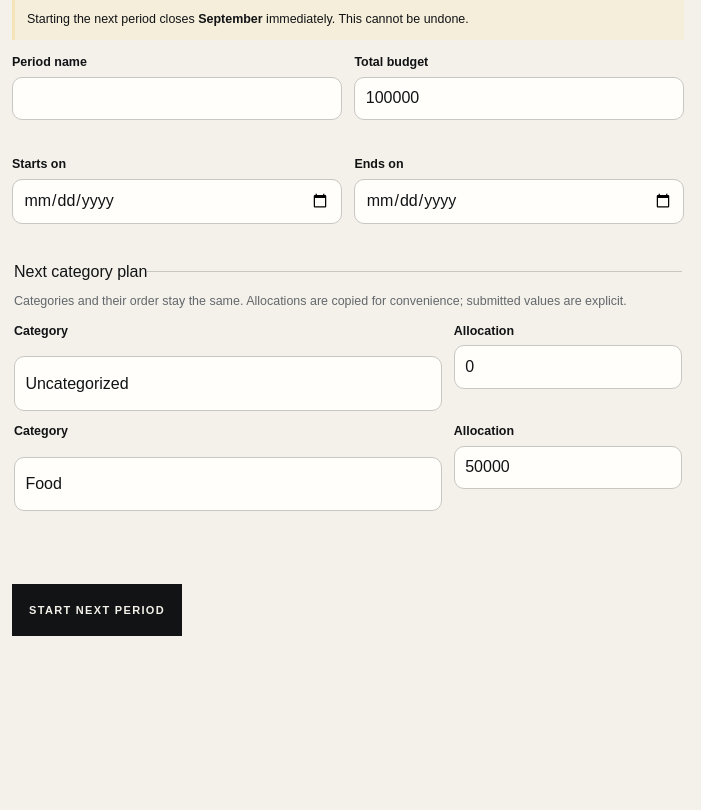
it: budget forms › previews recurring candidates for proposed dates and defaults them selected
Expected: the text "Gym" is not shown
Type "2026-10-01" into the date field labelled "Starts on" at point(177, 201), box [12,179,342,224]
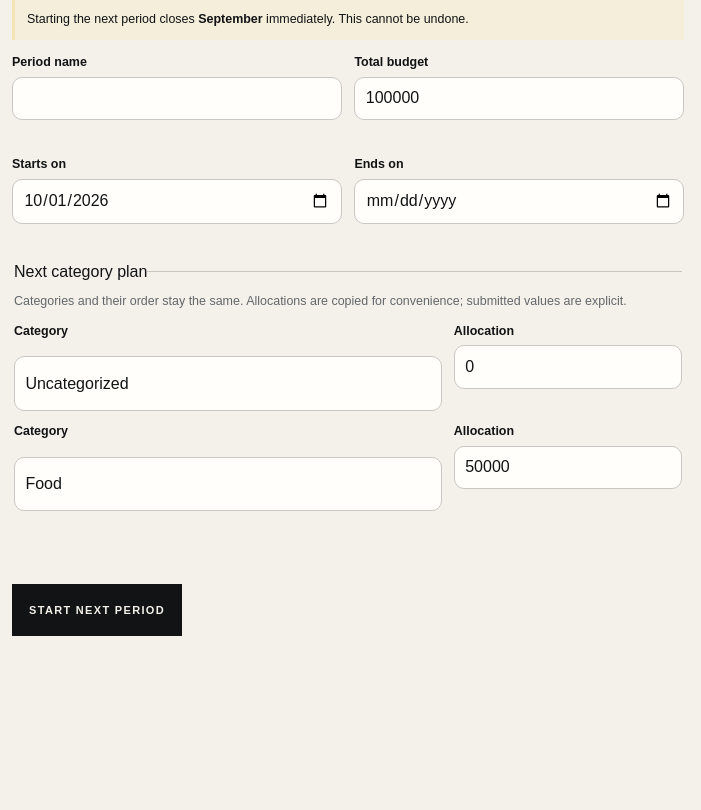
Type "2026-11-30" into the date field labelled "Ends on" at point(519, 201), box [354,179,684,224]
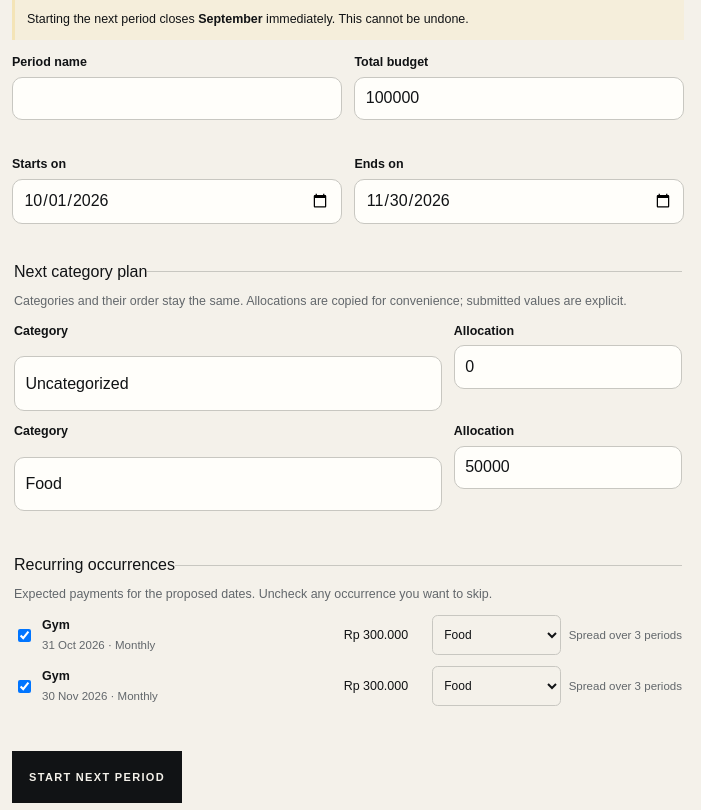
Expected: the text "Gym" is shown 2 times, [42,618,70,632]; [42,669,70,683]
Expected: the number of checkboxes is 2, [18,629,31,642]; [18,680,31,693]
Expected: the checkbox labelled "Gym 31 Oct 2026 · Monthly" is checked, [18,629,31,642]
